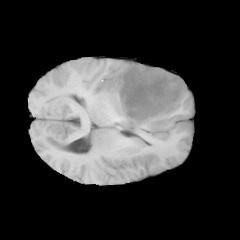glioma: (118, 62, 186, 129)
